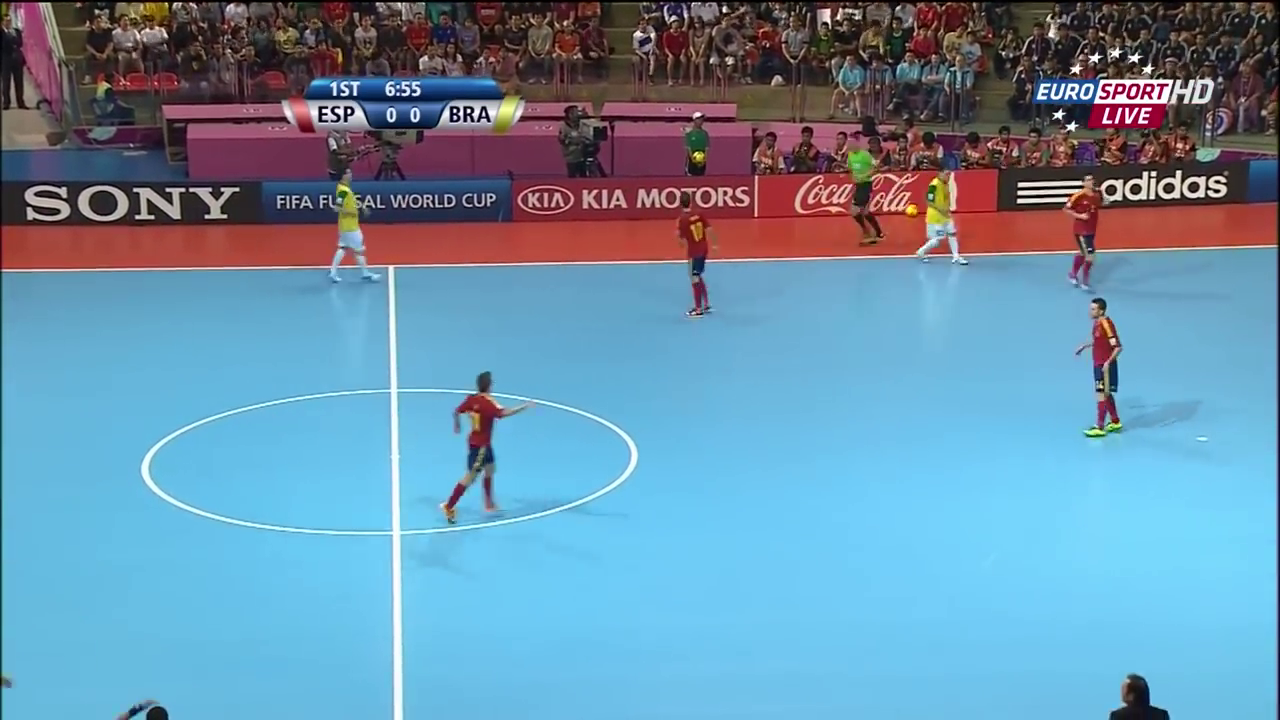ball: (898, 198, 917, 217)
person: (434, 370, 530, 518), (1074, 296, 1126, 444), (320, 167, 377, 286), (667, 193, 717, 317), (1062, 170, 1105, 291), (916, 163, 961, 266)
